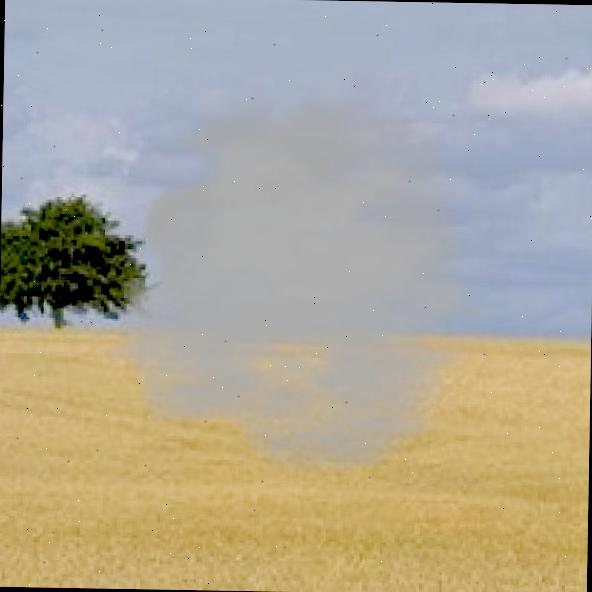smoke: (101, 90, 519, 477)
